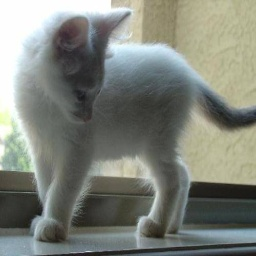cat: (7, 7, 256, 236)
